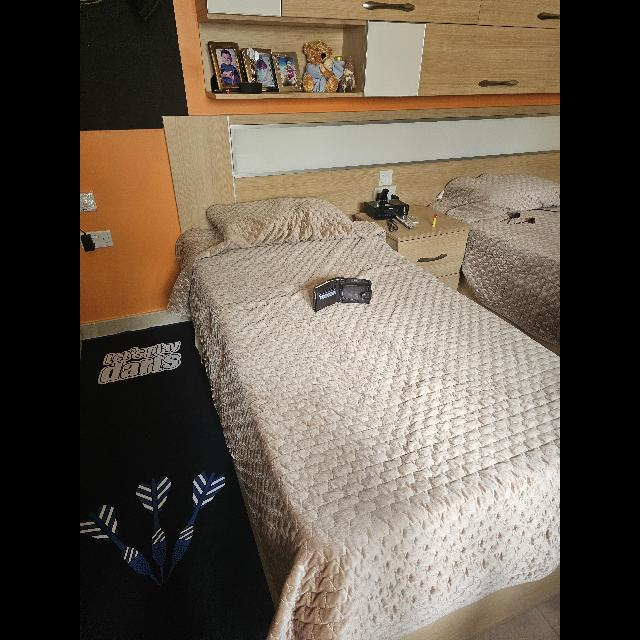Sunglasses: (386, 218, 398, 232)
Wallet: (312, 276, 372, 312)
